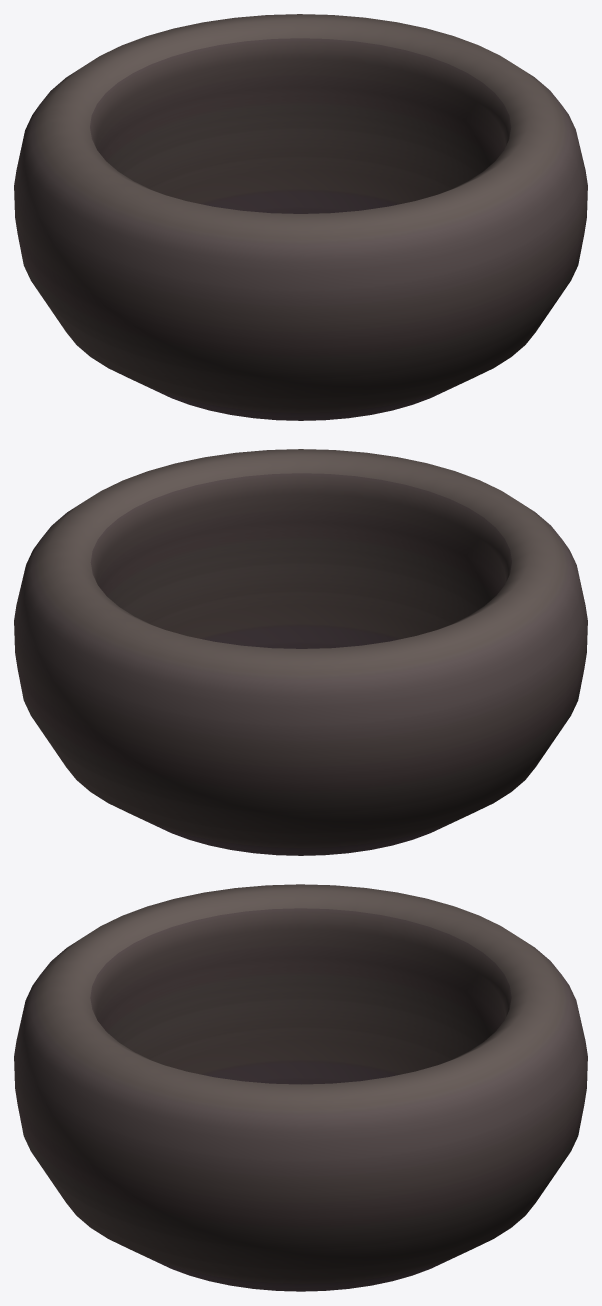
File: Bowl_04.glb
3 views of the same model, one above another, from view 1: azimuth 30°, elevation 25°; view 2: azimuth 150°, elevation 25°; view 3: azimuth 270°, elevation 25° (orthographic).
Parts seen in each view (by area): view 1: Bowl_04; view 2: Bowl_04; view 3: Bowl_04.
Boxes of the visible parts, x1,y1,x2,y2 form: Bowl_04: (14, 14, 587, 420); Bowl_04: (14, 449, 587, 855); Bowl_04: (14, 884, 587, 1291).
Bounding box in the file's own units: 0.2151 × 0.101 × 0.2151.
Materials: 1 (1 with a texture image).
